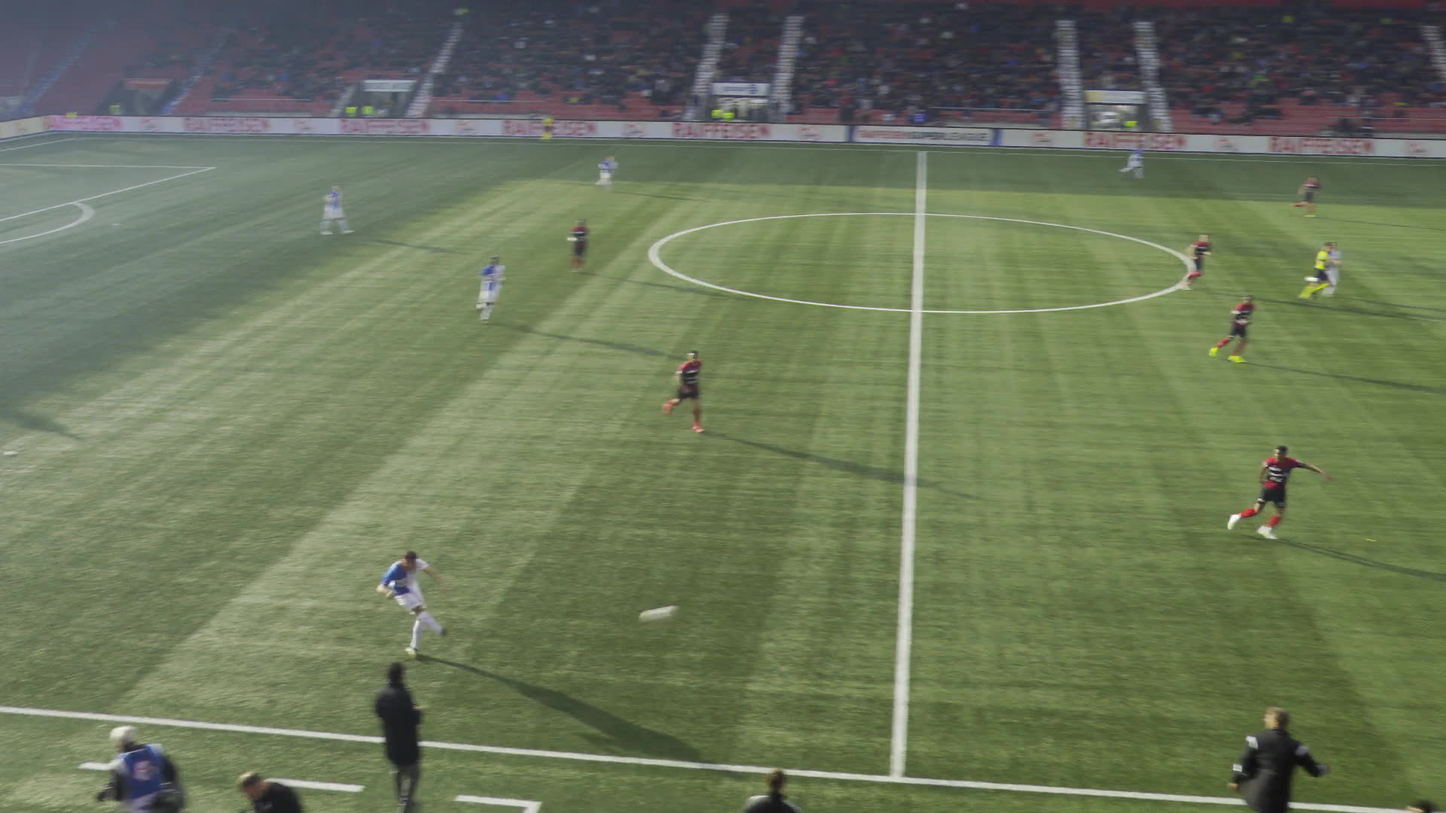ball: (581, 616, 616, 633)
player: (1231, 446, 1330, 539), (375, 550, 450, 659), (661, 350, 703, 434), (1214, 295, 1261, 363), (476, 256, 505, 324), (1189, 233, 1222, 290), (328, 181, 361, 235), (1290, 175, 1323, 218), (565, 218, 590, 274), (1327, 240, 1351, 297), (1117, 137, 1143, 181), (595, 154, 618, 187)
referee: (1297, 242, 1331, 303), (548, 111, 563, 142)
